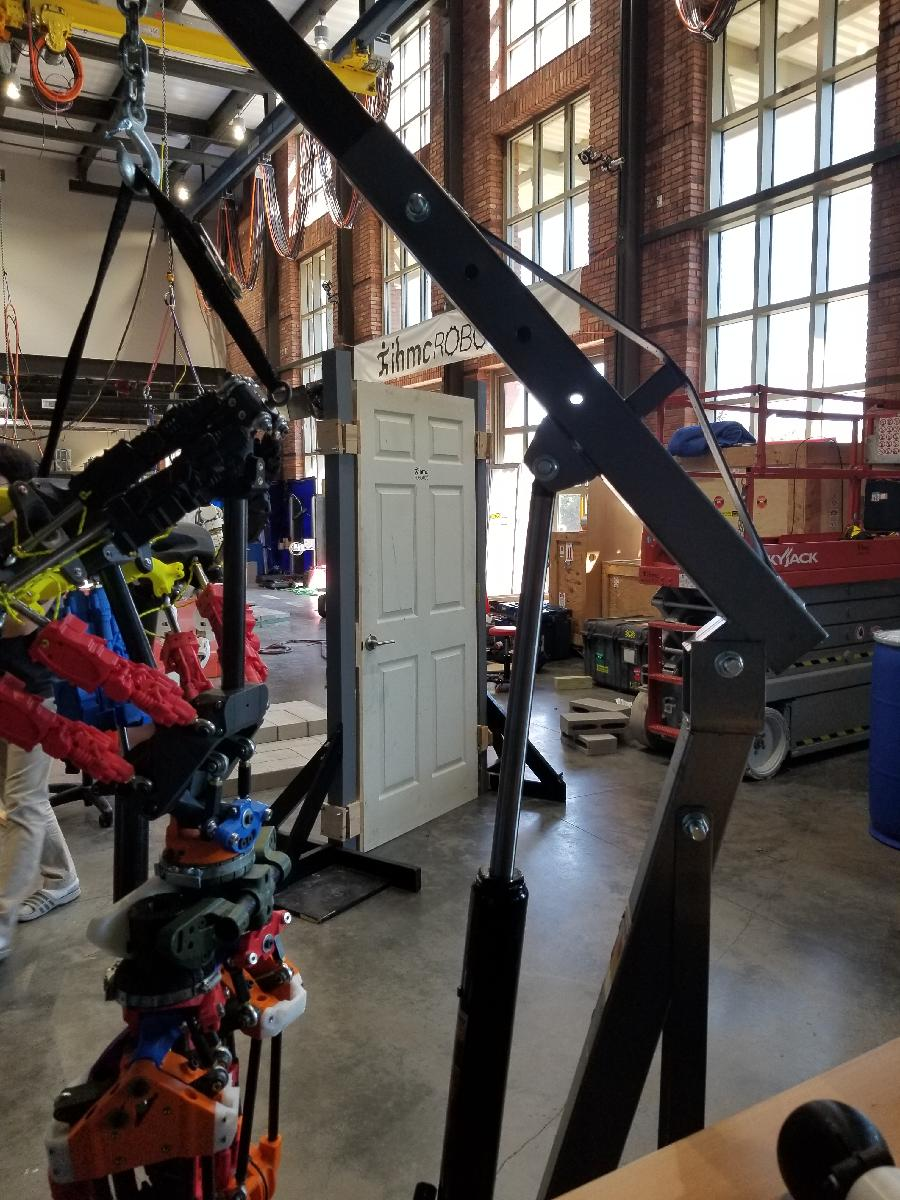door: (352, 377, 483, 856)
doorHandle: (363, 632, 402, 662)
